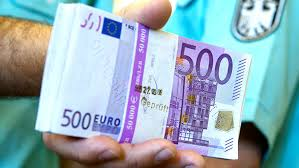billete: (36, 3, 250, 162)
